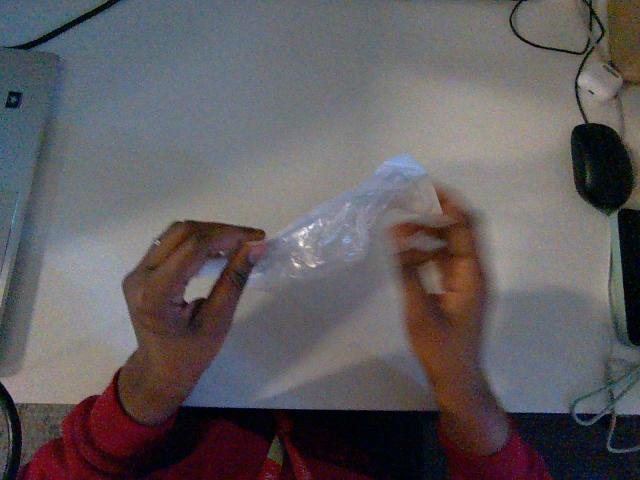gallipot: (249, 154, 440, 290)
